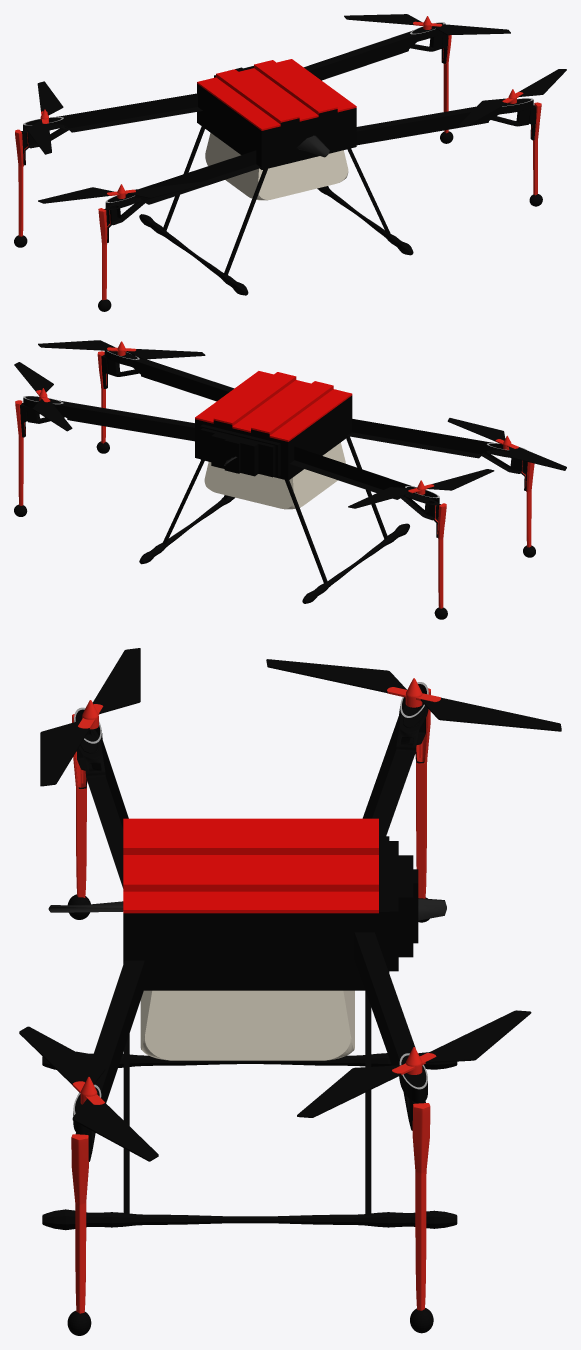
The model's file is drone0.fbx.
The picture shows the model from 3 angles, top to bottom: view 1: azimuth 30°, elevation 25°; view 2: azimuth 150°, elevation 25°; view 3: azimuth 270°, elevation 25°; orthographic projection. The views are drawn at different scales.
Parts seen in each view (by area): view 1: 立方体.007, 立方体.014, 立方体.006, arm rear right, arm fron left, arm fron right, arm rear left, 立方体.002, 立方体.001, 柱体.011, 柱体.001, 柱体.010 (+9 smaller); view 2: 立方体.007, 立方体.014, arm fron right, arm rear left, 立方体.006, arm rear right, arm fron left, 立方体.002, 立方体.001, 柱体.007, 柱体.008, 柱体.005 (+8 smaller); view 3: 立方体.007, 立方体.014, 立方体.006, arm rear left, arm fron left, arm rear right, arm fron right, 立方体.001, 立方体.002, 柱体.004, 柱体.005, 柱体.002 (+8 smaller).
Part boxes in pixels (box(x1,y1,x2,y2)): 立方体.007: box(197, 59, 356, 130); 立方体.014: box(197, 66, 356, 169); 立方体.006: box(205, 133, 348, 200); arm rear right: box(15, 93, 202, 236); arm fron left: box(356, 98, 541, 195); arm fron right: box(98, 150, 260, 300); arm rear left: box(304, 22, 451, 133); 立方体.002: box(139, 214, 248, 295); 立方体.001: box(317, 187, 413, 255); 柱体.011: box(127, 182, 204, 198); 柱体.001: box(432, 24, 510, 35); 柱体.010: box(38, 187, 113, 203); 立方体.007: box(195, 371, 352, 441); 立方体.014: box(195, 395, 352, 480); arm fron right: box(347, 418, 534, 547); arm rear left: box(15, 396, 194, 505); 立方体.006: box(204, 442, 345, 509); arm rear right: box(289, 446, 446, 608); arm fron left: box(97, 350, 234, 443); 立方体.002: box(302, 523, 409, 603); 立方体.001: box(139, 496, 234, 564); 柱体.007: box(126, 349, 205, 359); 柱体.008: box(38, 340, 115, 350); 柱体.005: box(427, 469, 494, 490); 立方体.007: box(123, 818, 378, 913); 立方体.014: box(123, 836, 418, 990); 立方体.006: box(140, 990, 354, 1060); arm rear left: box(354, 932, 430, 1310); arm fron left: box(71, 960, 144, 1313); arm rear right: box(362, 682, 430, 898); arm fron right: box(72, 707, 128, 897); 立方体.001: box(42, 1209, 457, 1230); 立方体.002: box(42, 1051, 457, 1069); 柱体.004: box(420, 697, 561, 731); 柱体.005: box(266, 659, 406, 693); 柱体.002: box(425, 1010, 531, 1063).
Size of the model in its own units: 432 by 115 by 193.
